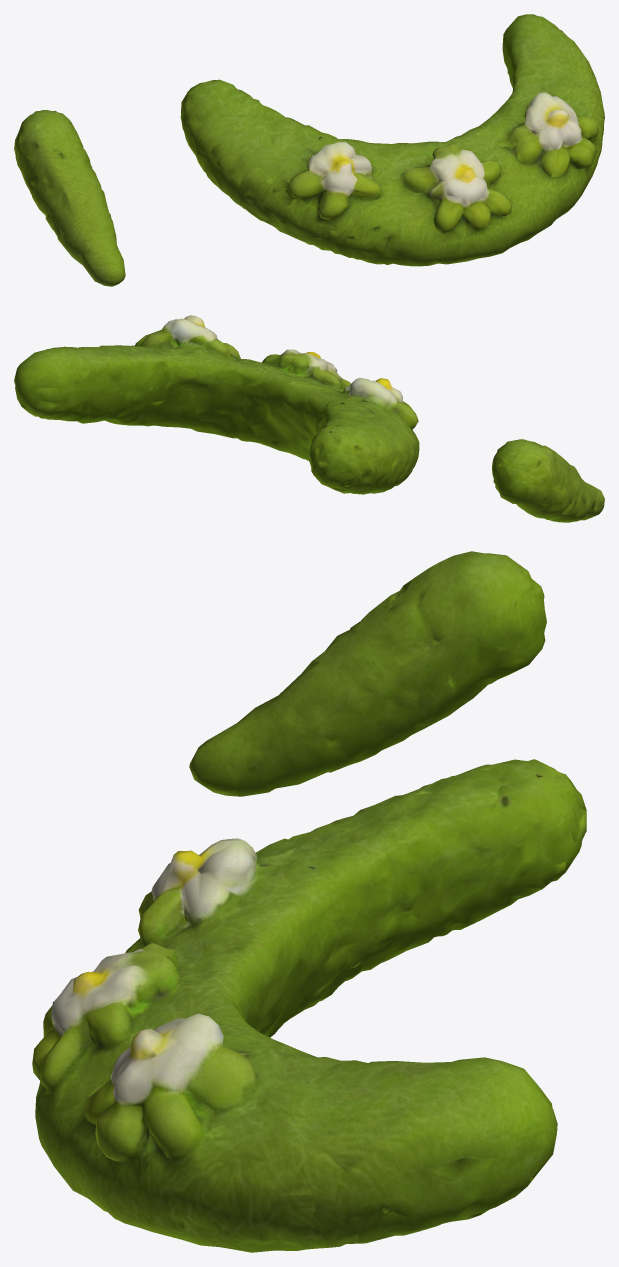
Rendered from cluster-flowerbed-crescent.glb.
The picture shows the model from 3 angles, top to bottom: view 1: azimuth 30°, elevation 25°; view 2: azimuth 150°, elevation 25°; view 3: azimuth 270°, elevation 25°; orthographic projection. The views are drawn at different scales.
Visible parts, largest first — view 1: Mesh_0; view 2: Mesh_0; view 3: Mesh_0.
Boxes of the visible parts, x1,y1,x2,y2 form: Mesh_0: (14,14,604,286); Mesh_0: (14,315,604,522); Mesh_0: (32,551,586,1252).
Size of the model in its own units: 2 by 0.5286 by 0.9022.
Materials: 1 (1 with a texture image).
